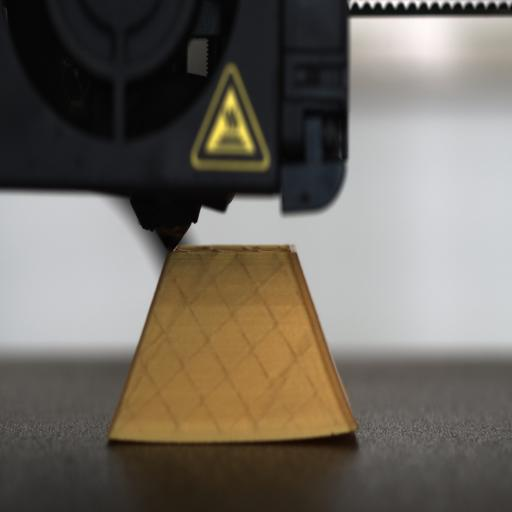warp: (303, 410, 366, 448), (98, 427, 143, 451)
